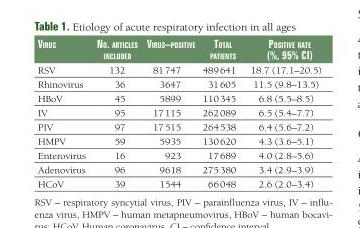table: (37, 36, 320, 189)
table column: (242, 36, 320, 189), (141, 36, 198, 189), (37, 36, 90, 189), (90, 36, 141, 189), (198, 36, 242, 189)
table column header: (37, 36, 320, 63)
table row: (37, 36, 320, 63), (37, 77, 320, 92), (37, 134, 320, 149), (37, 63, 320, 77), (37, 92, 320, 106), (37, 106, 320, 120), (37, 120, 320, 134), (37, 149, 320, 163), (37, 163, 320, 177), (37, 177, 320, 189)
